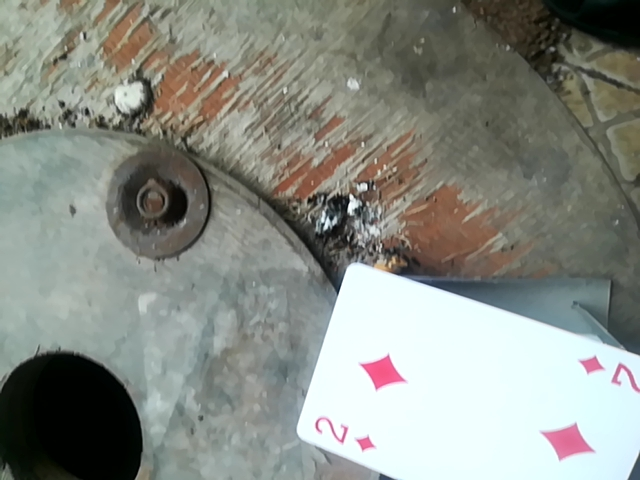fk 2: (285, 261, 638, 478)
